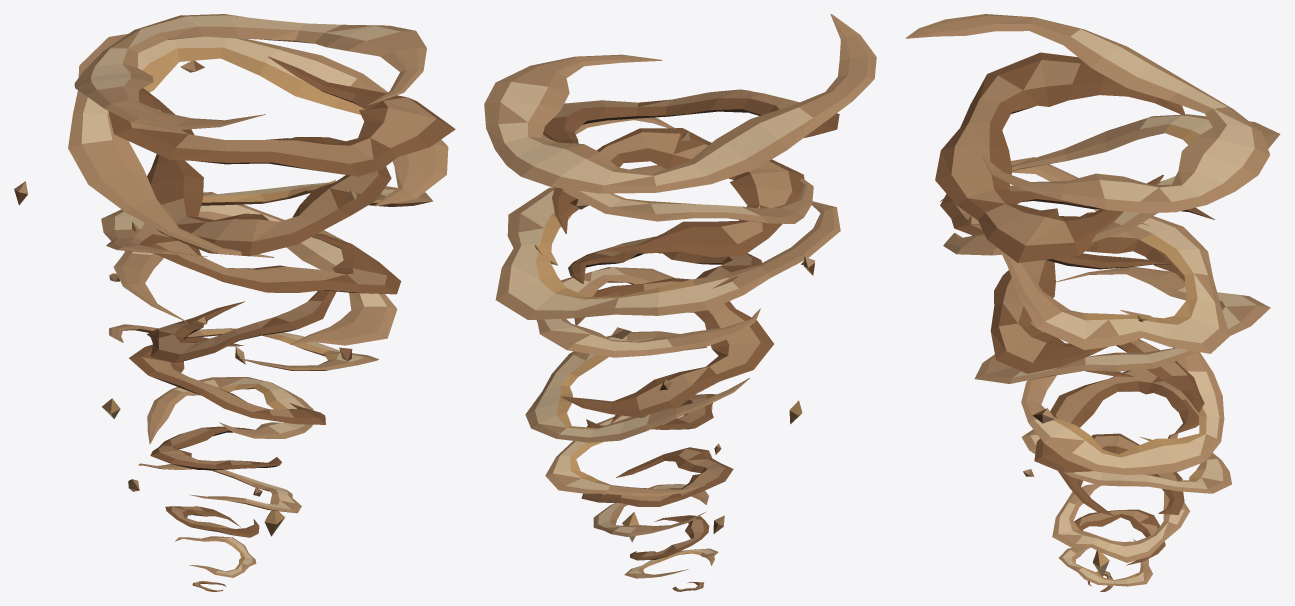
Rendered from Dust_Devil.glb.
3 views of the same model, side by side, from view 1: azimuth 30°, elevation 25°; view 2: azimuth 150°, elevation 25°; view 3: azimuth 270°, elevation 25° (orthographic). The views are drawn at different scales.
Visible parts, largest first — view 1: Wind_Ribbon_14, Wind_Ribbon_16, Wind_Ribbon_15, Wind_Ribbon_13, Wind_Ribbon_10.001, Wind_Ribbon_11, Wind_Ribbon_09.001, Wind_Ribbon_12, Wind_Ribbon_06.001, Wind_Ribbon_07.001, Wind_Ribbon_08.001, Wind_Ribbon_05.001 (+3 smaller); view 2: Wind_Ribbon_16, Wind_Ribbon_12, Wind_Ribbon_13, Wind_Ribbon_09.001, Wind_Ribbon_08.001, Wind_Ribbon_10.001, Wind_Ribbon_15, Wind_Ribbon_14, Wind_Ribbon_05.001, Wind_Ribbon_06.001, Wind_Ribbon_11, Wind_Ribbon_04.001 (+3 smaller); view 3: Wind_Ribbon_16, Wind_Ribbon_15, Wind_Ribbon_12, Wind_Ribbon_08.001, Wind_Ribbon_11, Wind_Ribbon_10.001, Wind_Ribbon_14, Wind_Ribbon_07.001, Wind_Ribbon_04.001, Wind_Ribbon_06.001, Wind_Ribbon_13, Wind_Ribbon_05.001 (+3 smaller).
Boxes of the visible parts, left/top/right/bottom form: Wind_Ribbon_14: left=68, top=34, right=448, bottom=257; Wind_Ribbon_16: left=74, top=14, right=426, bottom=130; Wind_Ribbon_15: left=108, top=56, right=455, bottom=176; Wind_Ribbon_13: left=147, top=137, right=391, bottom=256; Wind_Ribbon_10.001: left=113, top=192, right=397, bottom=345; Wind_Ribbon_11: left=132, top=222, right=401, bottom=294; Wind_Ribbon_09.001: left=147, top=290, right=336, bottom=362; Wind_Ribbon_12: left=101, top=182, right=432, bottom=256; Wind_Ribbon_06.001: left=147, top=377, right=313, bottom=444; Wind_Ribbon_07.001: left=129, top=337, right=325, bottom=424; Wind_Ribbon_08.001: left=109, top=324, right=378, bottom=370; Wind_Ribbon_05.001: left=150, top=426, right=281, bottom=470; Wind_Ribbon_16: left=484, top=14, right=876, bottom=193; Wind_Ribbon_12: left=495, top=165, right=840, bottom=319; Wind_Ribbon_13: left=552, top=128, right=804, bottom=257; Wind_Ribbon_09.001: left=561, top=278, right=773, bottom=417; Wind_Ribbon_08.001: left=525, top=331, right=749, bottom=442; Wind_Ribbon_10.001: left=536, top=267, right=760, bottom=357; Wind_Ribbon_15: left=543, top=89, right=839, bottom=143; Wind_Ribbon_14: left=541, top=117, right=813, bottom=223; Wind_Ribbon_05.001: left=581, top=447, right=733, bottom=506; Wind_Ribbon_06.001: left=545, top=405, right=712, bottom=496; Wind_Ribbon_11: left=568, top=236, right=762, bottom=288; Wind_Ribbon_04.001: left=593, top=484, right=708, bottom=536; Wind_Ribbon_16: left=905, top=14, right=1269, bottom=213; Wind_Ribbon_15: left=935, top=52, right=1185, bottom=262; Wind_Ribbon_12: left=1002, top=157, right=1229, bottom=353; Wind_Ribbon_08.001: left=1021, top=310, right=1224, bottom=474; Wind_Ribbon_11: left=990, top=212, right=1184, bottom=373; Wind_Ribbon_10.001: left=974, top=267, right=1270, bottom=383; Wind_Ribbon_14: left=940, top=114, right=1280, bottom=255; Wind_Ribbon_07.001: left=1034, top=369, right=1199, bottom=472; Wind_Ribbon_04.001: left=1052, top=484, right=1189, bottom=562; Wind_Ribbon_06.001: left=1021, top=429, right=1231, bottom=493; Wind_Ribbon_13: left=940, top=185, right=1214, bottom=269; Wind_Ribbon_05.001: left=1058, top=433, right=1184, bottom=515.
Bounding box in the file's own units: 4.83 × 6.99 × 4.54.
